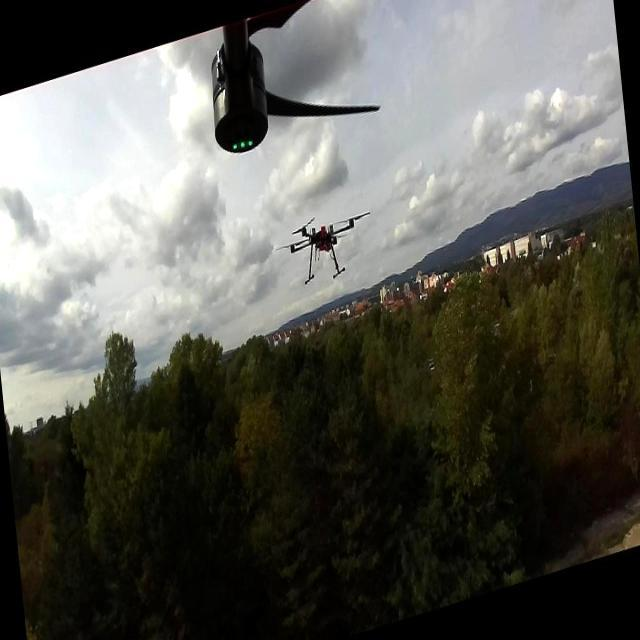drone: (285, 200, 369, 292)
